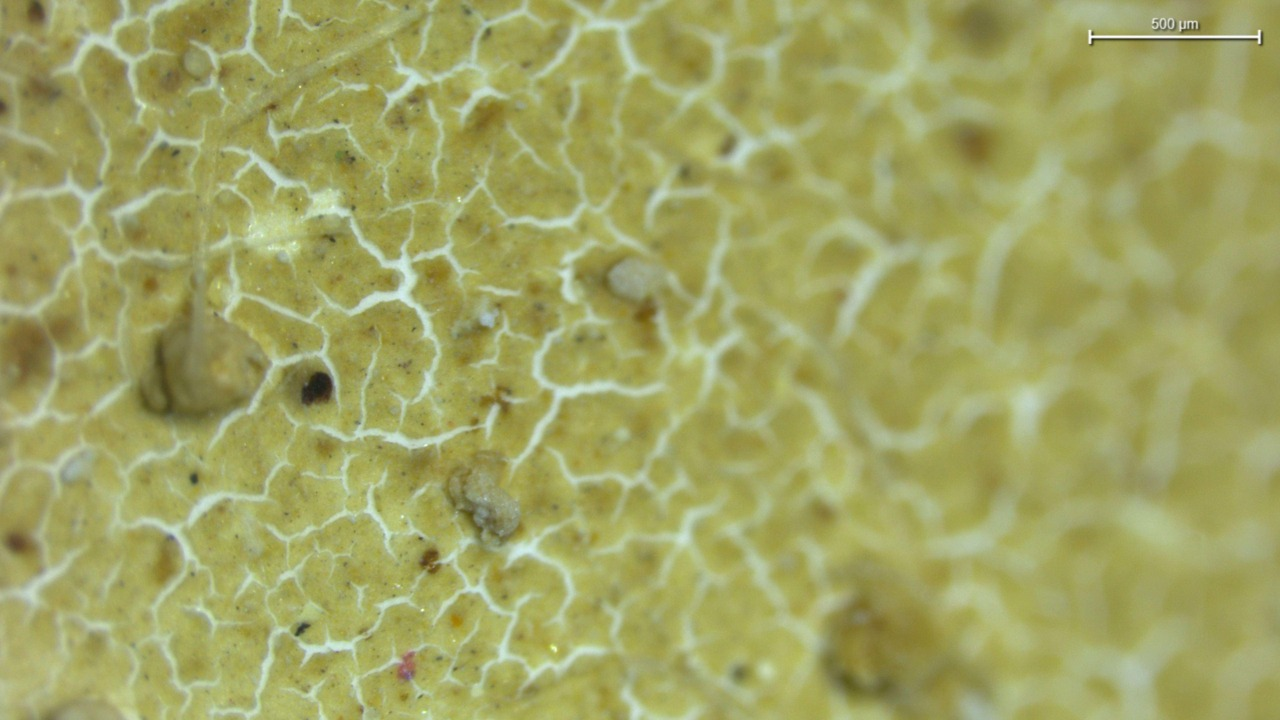microplastic_fragment: (446, 467, 520, 545), (607, 257, 665, 303)
